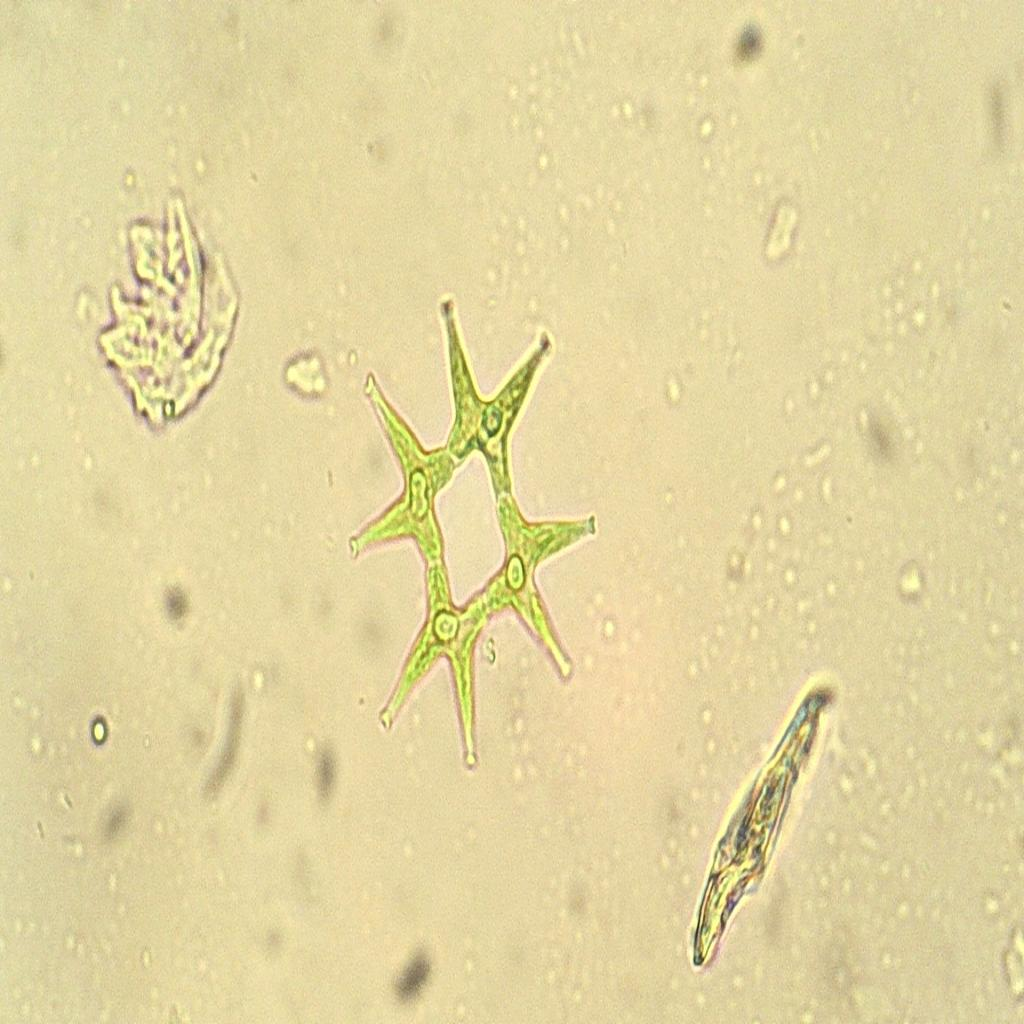Pediastrum_10: (332, 291, 608, 800)
